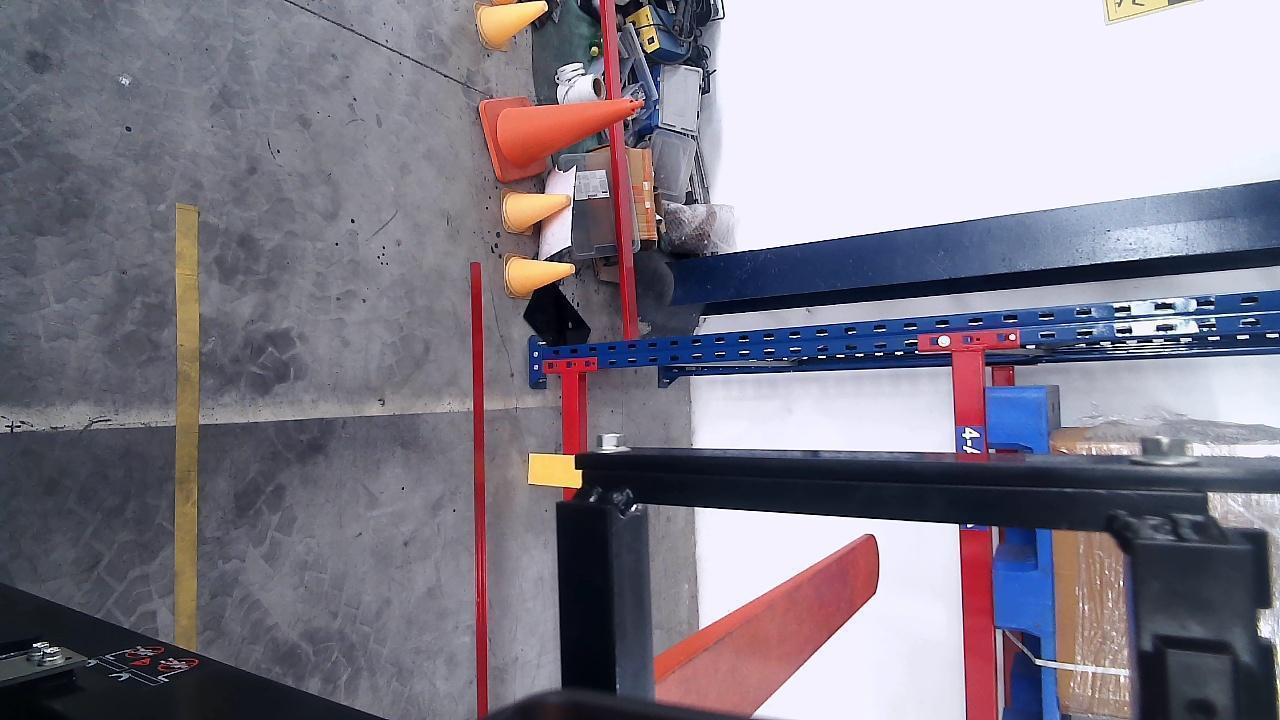red_line: (469, 262, 488, 718)
yellow_line: (176, 202, 202, 653)
